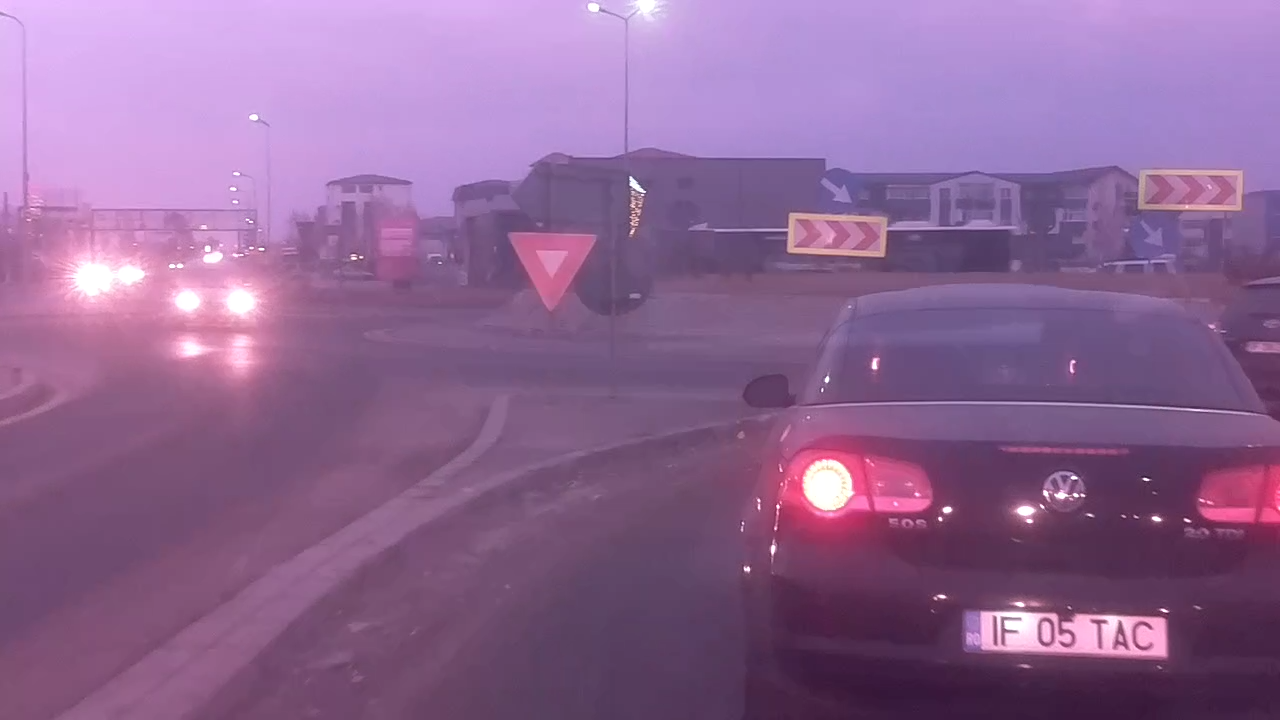license-plate: (955, 603, 1176, 664)
